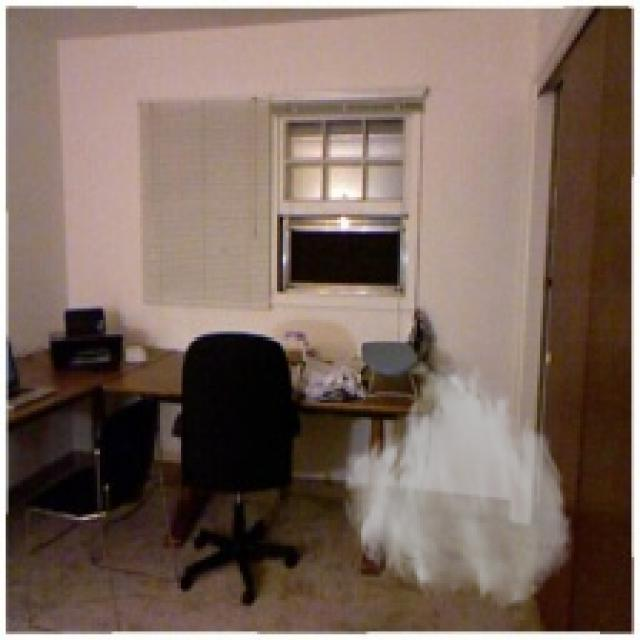smoke: (340, 354, 574, 612)
